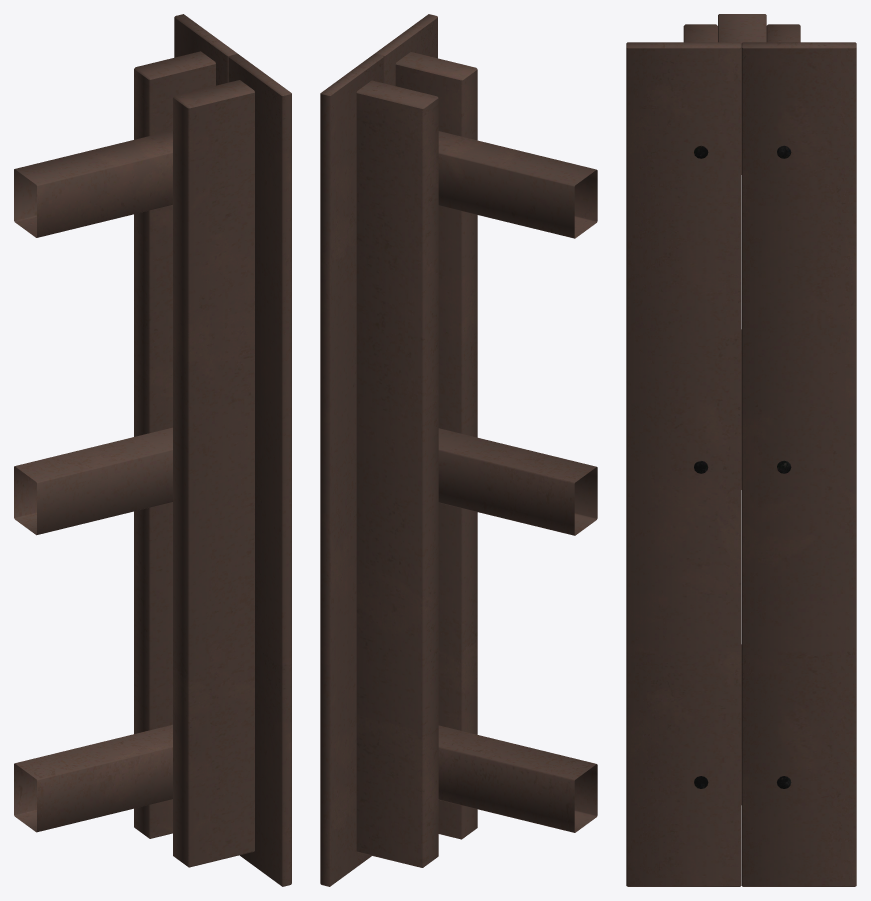
File: cP_Bench12_v03.dae
3 renders of one model, left to right at view 1: azimuth 30°, elevation 25°; view 2: azimuth 150°, elevation 25°; view 3: azimuth 270°, elevation 25°, orthographic. The views are drawn at different scales.
Visible parts, largest first — view 1: cP_Bench12_v03.001; view 2: cP_Bench12_v03.001; view 3: cP_Bench12_v03.001.
Part boxes in pixels (x1,y1,x2,y2): cP_Bench12_v03.001: (14, 14, 291, 886); cP_Bench12_v03.001: (320, 14, 597, 886); cP_Bench12_v03.001: (626, 14, 856, 886).
Bounding box in the file's own units: 0.5638 × 0.4962 × 2.
